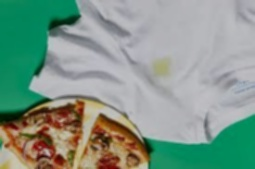oil: (148, 58, 172, 82)
